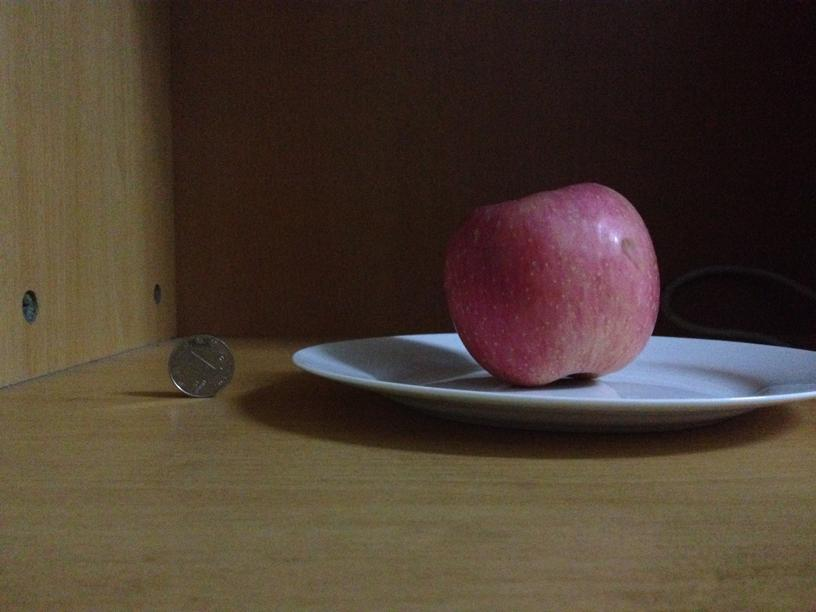apple: (445, 180, 661, 385)
coin: (168, 335, 236, 399)
